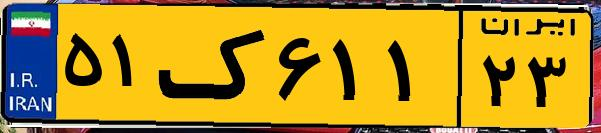1: (385, 28, 445, 110), (330, 28, 385, 110), (110, 28, 158, 98)
2: (475, 38, 525, 113)
3: (525, 38, 570, 115)
5: (57, 26, 110, 100)
6: (270, 28, 330, 110)
ک: (158, 12, 270, 120)
